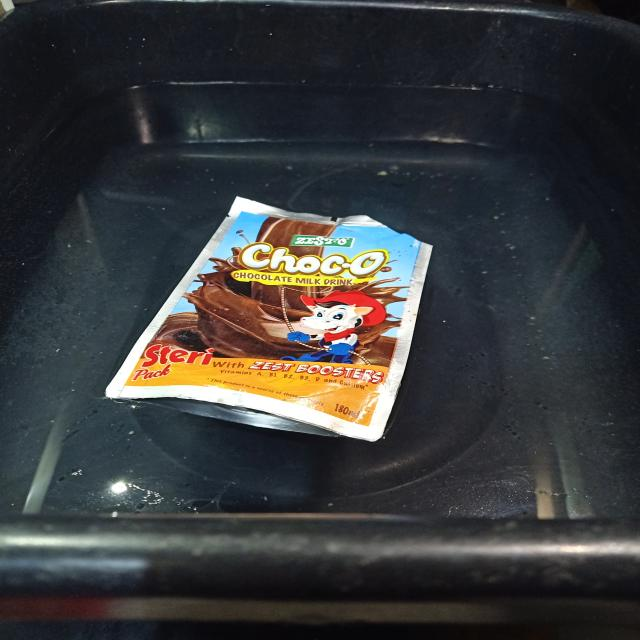Plastic Pouch: (106, 197, 432, 441)
